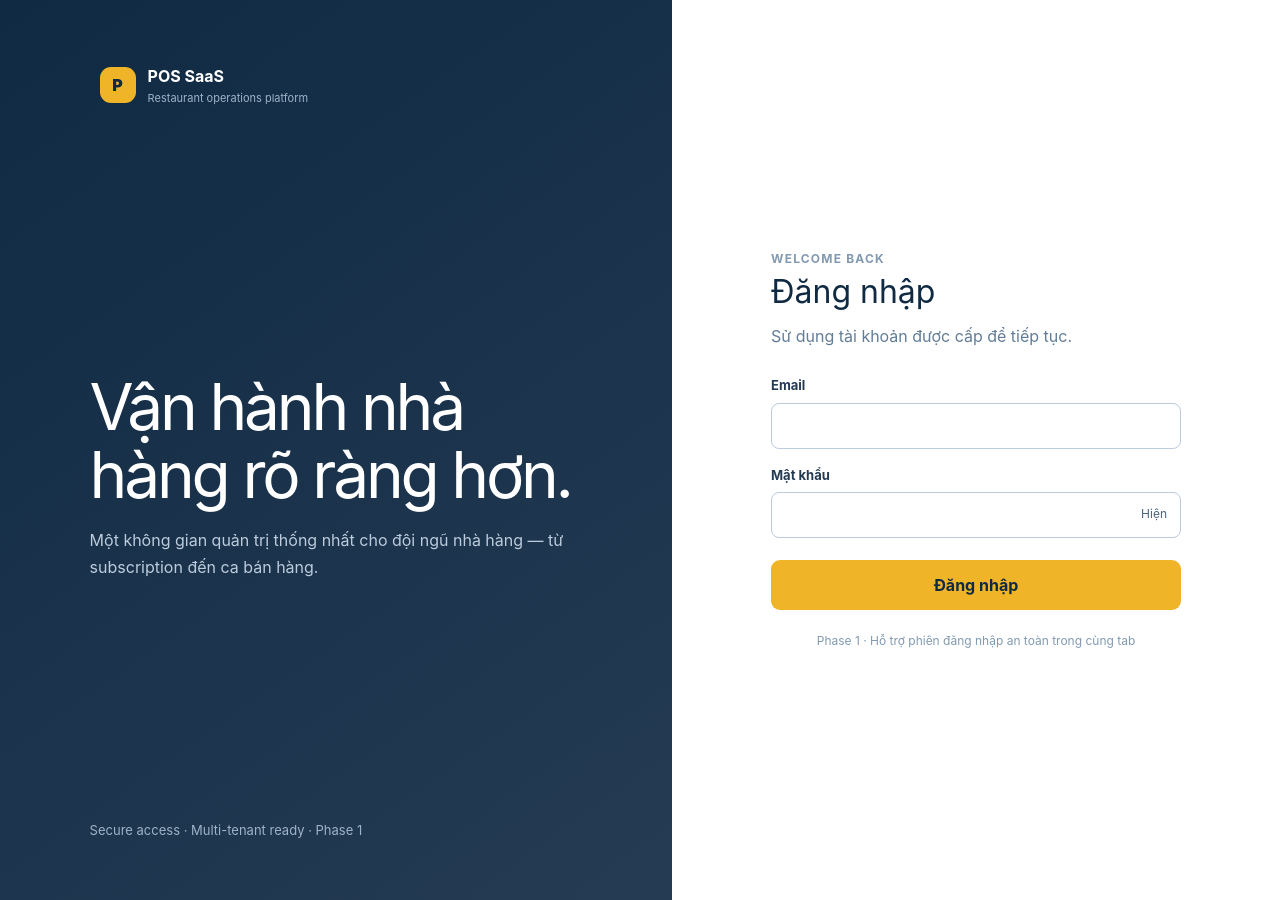
Test case: login page › shows the backend invalid credentials message
Type "admin@example.com" into the field labelled "Email".
click(976, 426); type("admin@example.com")  # box [771,402,1181,448]
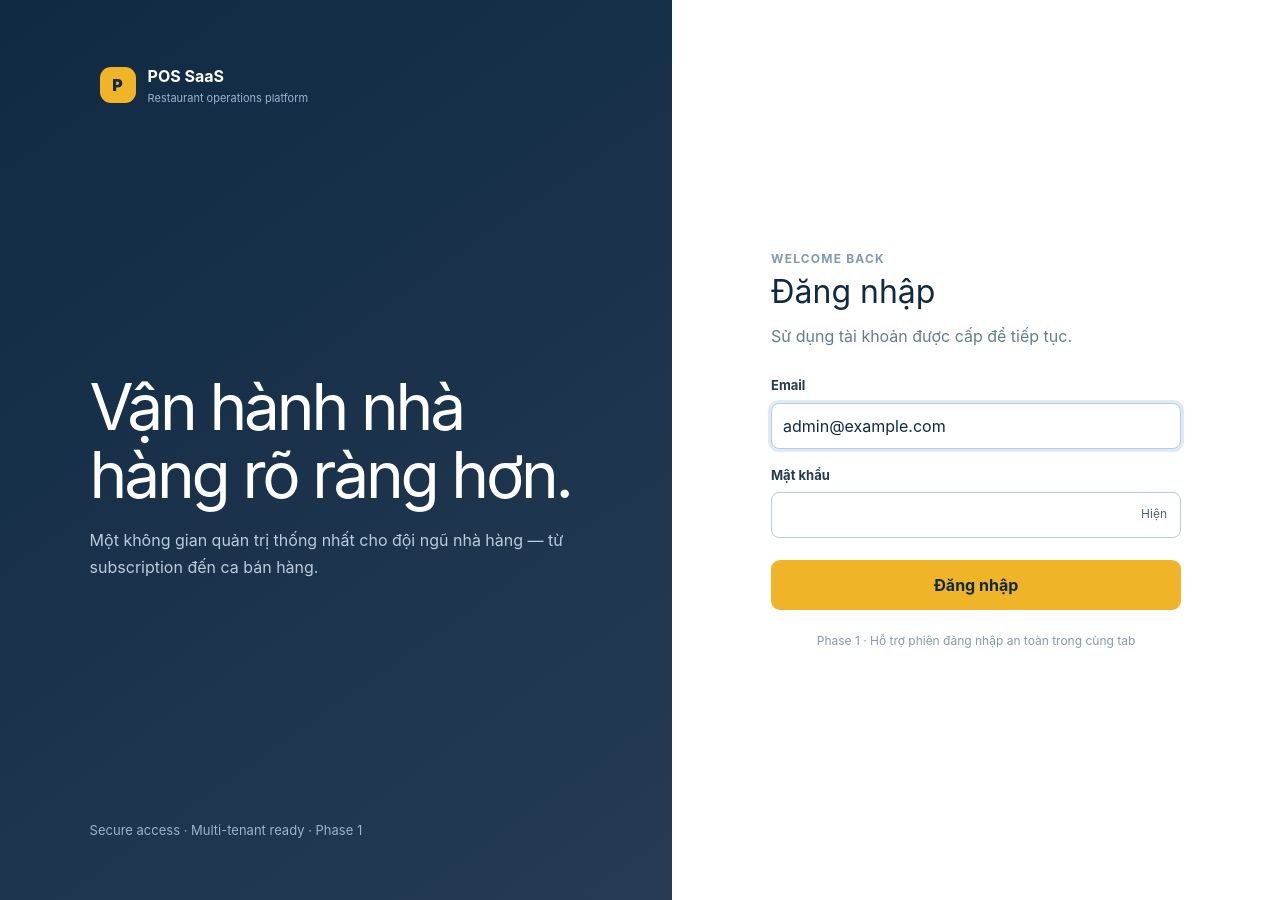
Type "wrong" into the password field labelled "Mật khẩu".
click(976, 515); type("wrong")  # box [771,492,1181,538]
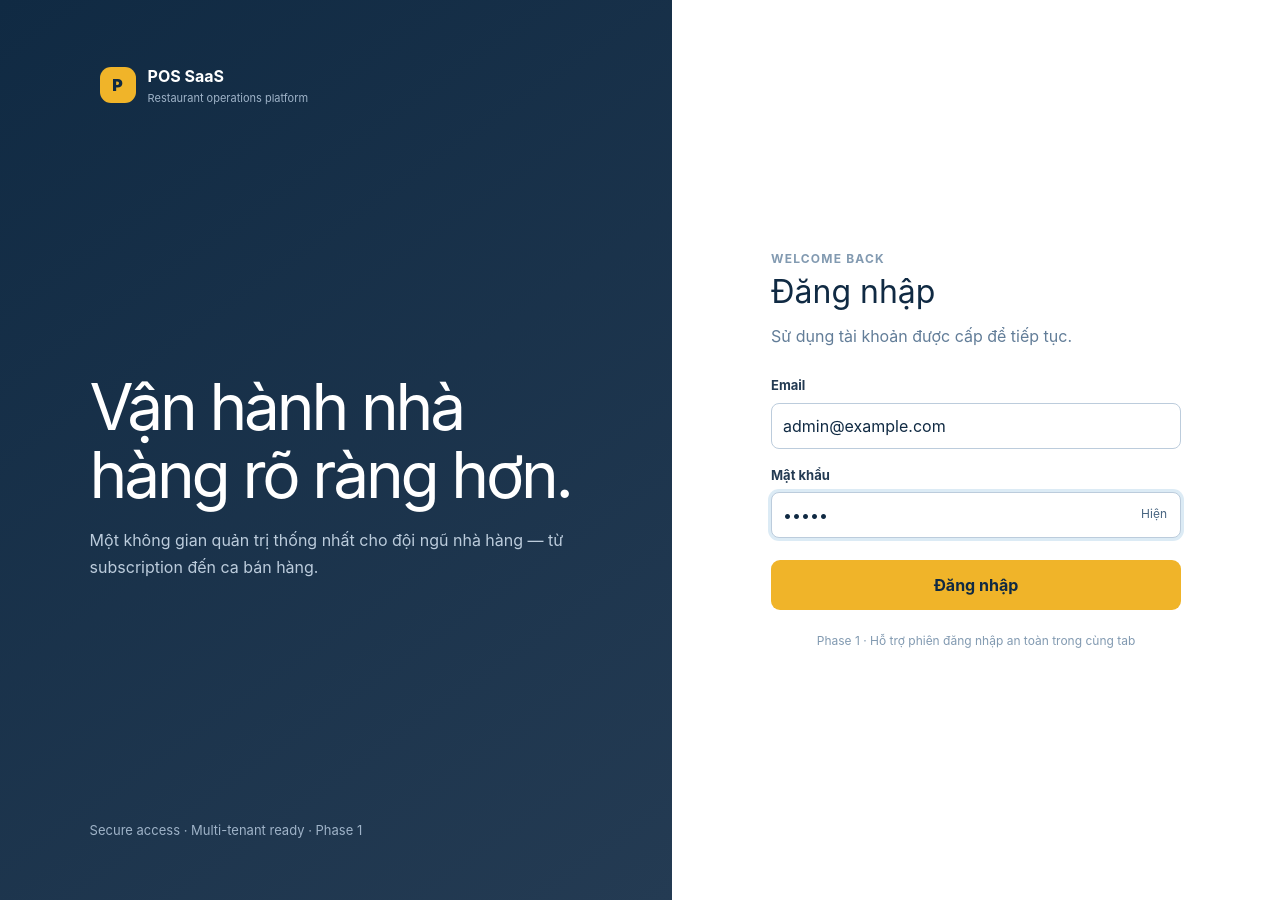
Click the button "Đăng nhập".
click(976, 585)  # box [771,560,1181,610]
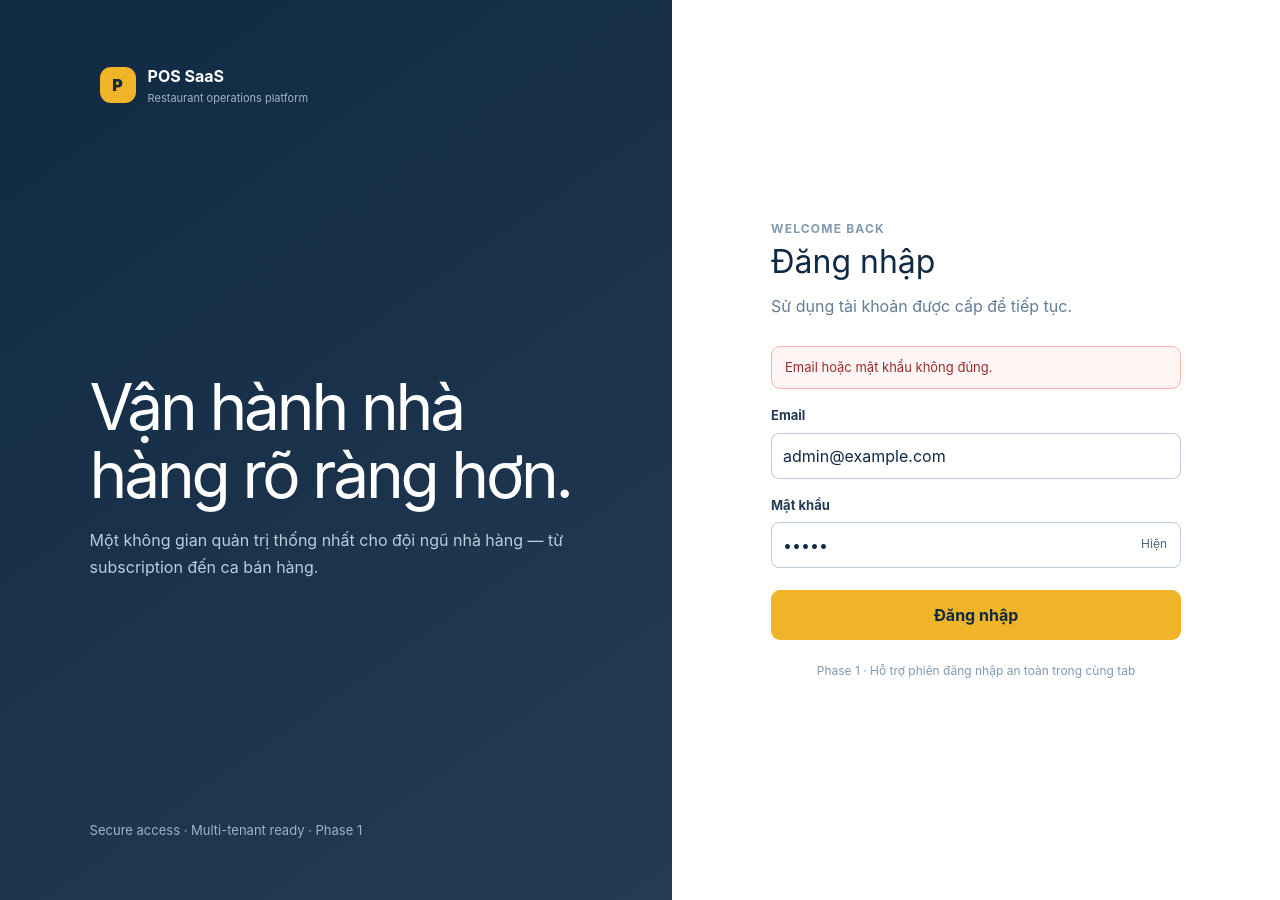
Expected: the message reads "Email hoặc mật khẩu không đúng.", [785,359,992,375]
